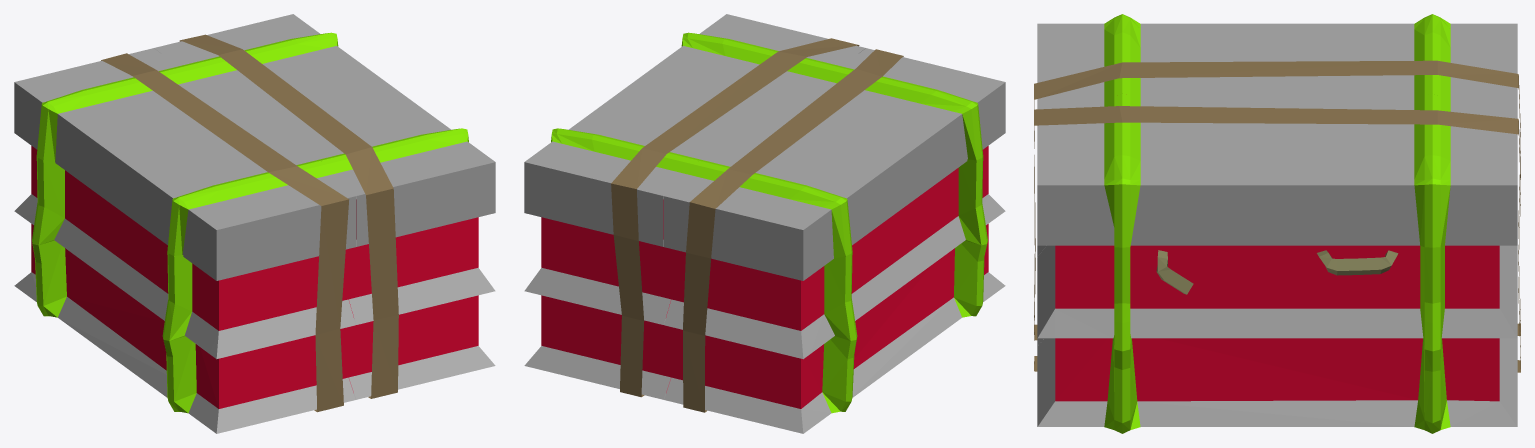
The model's file is CrateBox.fbx.
3 views of the same model, side by side, from view 1: azimuth 30°, elevation 25°; view 2: azimuth 150°, elevation 25°; view 3: azimuth 270°, elevation 25° (orthographic). The views are drawn at different scales.
Parts seen in each view (by area): view 1: pCylinder2Shape1; view 2: pCylinder2Shape1; view 3: pCylinder2Shape1.
Part boxes in pixels (box(x1,y1,x2,y2)): pCylinder2Shape1: box(14, 14, 495, 433); pCylinder2Shape1: box(524, 14, 1005, 433); pCylinder2Shape1: box(1034, 14, 1520, 433).
Bounding box in the file's own units: 96.67 × 64.53 × 109.
